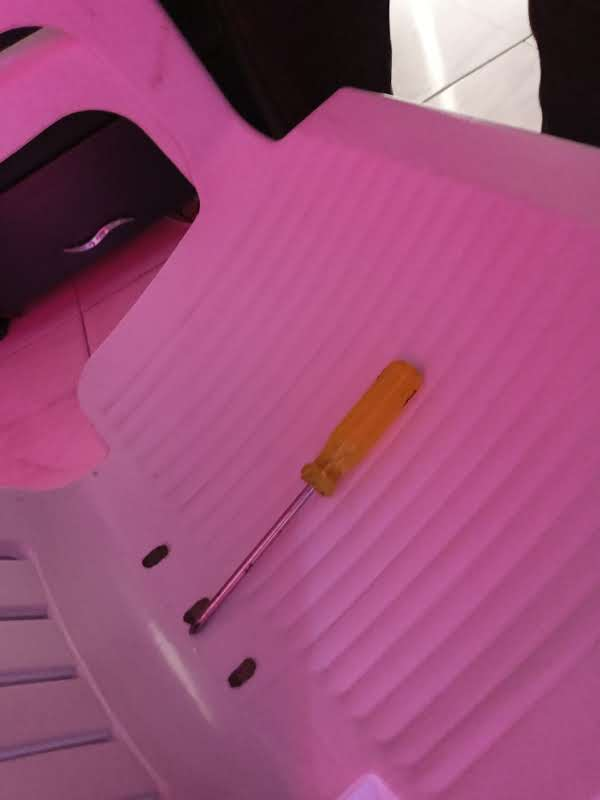Destornillador: (190, 360, 422, 633)
